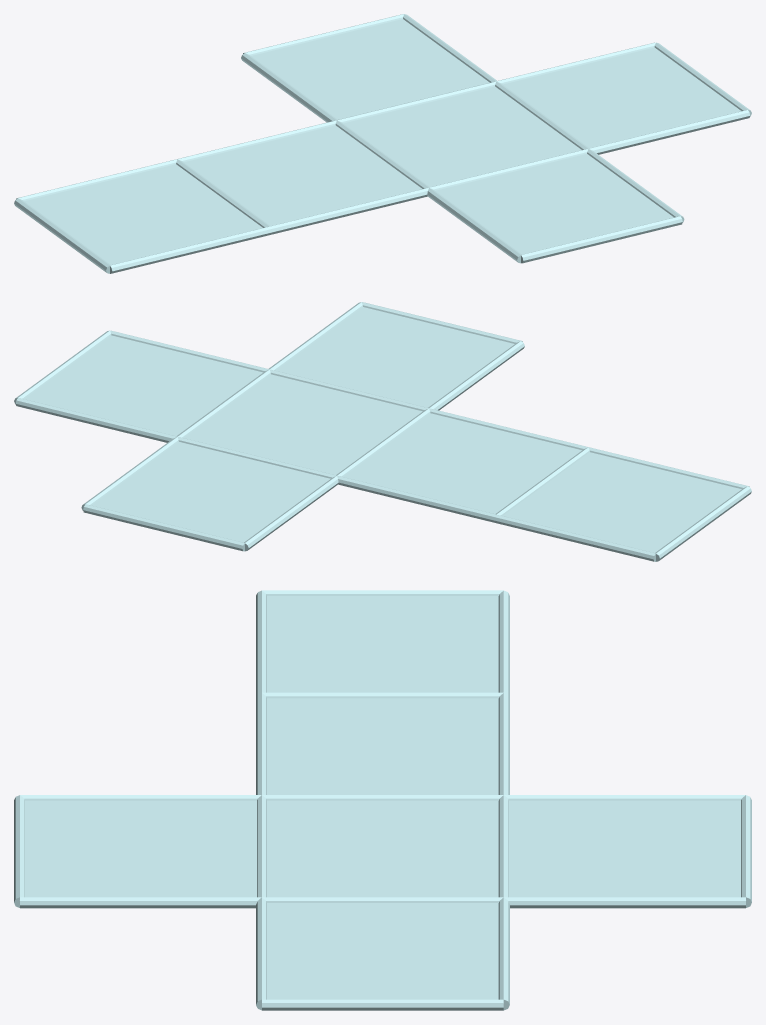
Rendered from jaring kubus 0.glb.
3 views of the same model, one above another, from view 1: azimuth 30°, elevation 25°; view 2: azimuth 150°, elevation 25°; view 3: azimuth 270°, elevation 25° (orthographic). The views are drawn at different scales.
Bounding box in the file's own units: 40.48 × 0.5 × 30.48.
